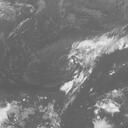cyclone: (37, 38, 92, 87)
